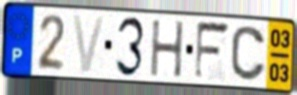2: (37, 13, 67, 72)
3: (111, 15, 148, 79)
C: (229, 24, 268, 83)
F: (192, 20, 232, 83)
H: (150, 19, 186, 79)
V: (71, 13, 108, 75)
